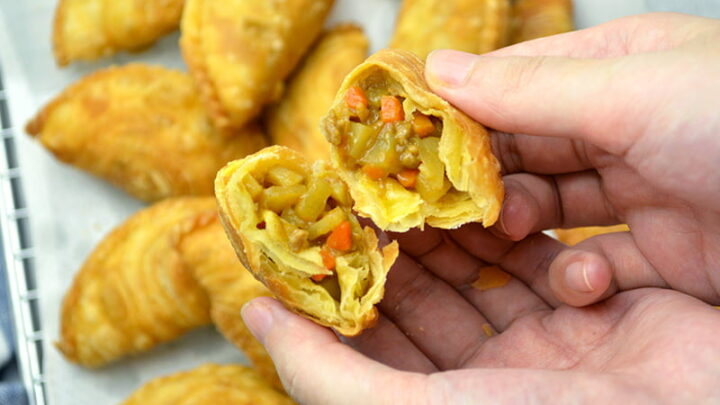Curry Puff: (195, 62, 534, 328), (52, 193, 262, 354), (12, 68, 266, 199), (170, 2, 349, 129)
